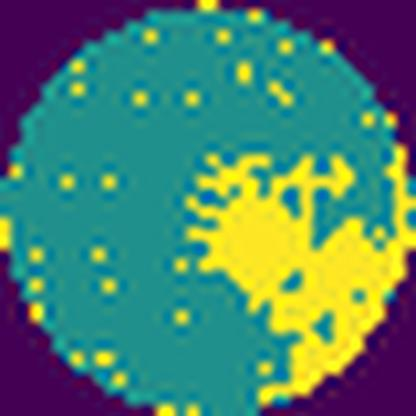Loc: (180, 149, 416, 403)
